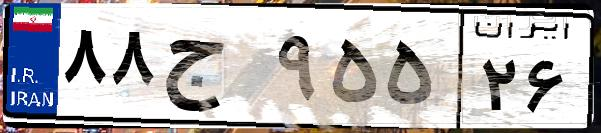2: (475, 38, 525, 113)
5: (385, 28, 445, 110), (330, 28, 385, 110)
6: (525, 38, 570, 115)
8: (57, 26, 110, 100), (110, 28, 158, 98)
9: (270, 28, 330, 110)
ج: (158, 20, 270, 120)
